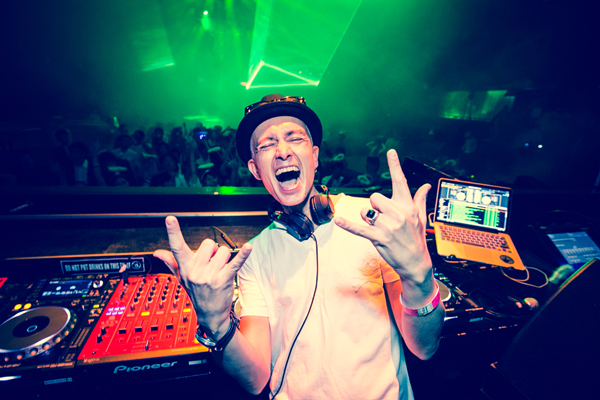face: (248, 117, 319, 205)
hand: (332, 148, 431, 277), (152, 215, 253, 317)
